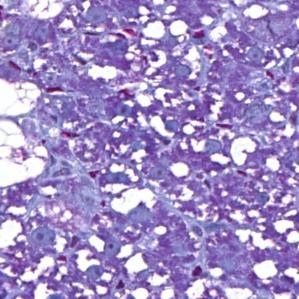ballooning: (4, 118, 51, 196)
